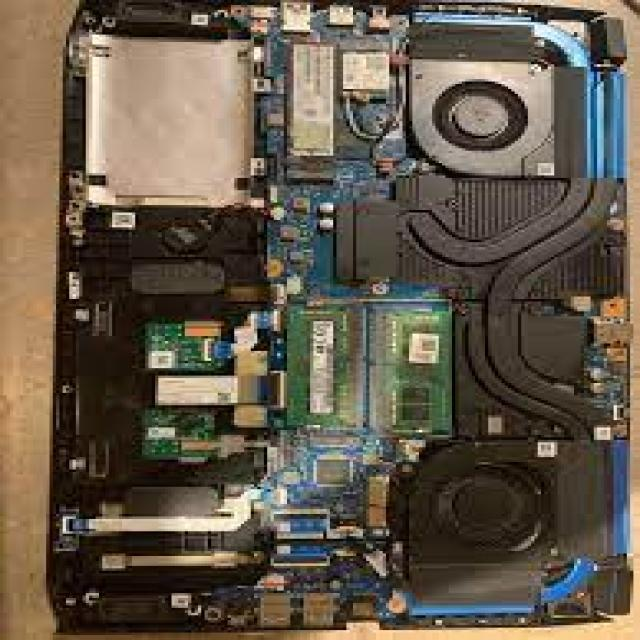SSD: (345, 46, 395, 105)
